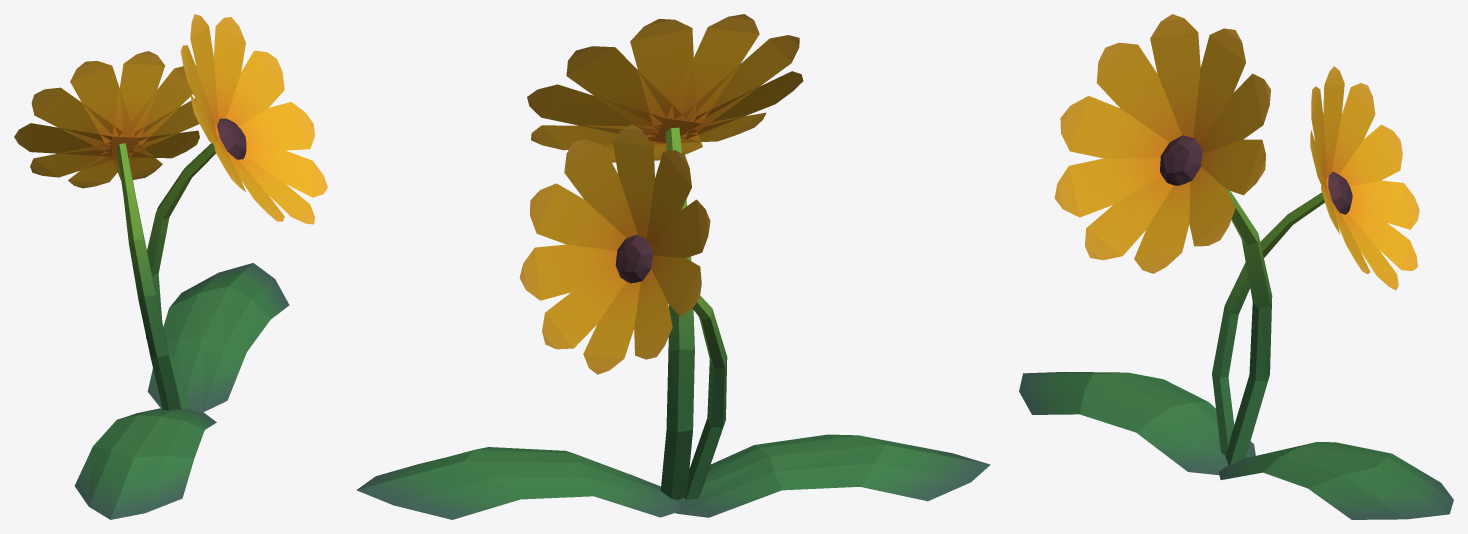
File: amarilla-2.glb
3 renders of one model, left to right at view 1: azimuth 30°, elevation 25°; view 2: azimuth 150°, elevation 25°; view 3: azimuth 270°, elevation 25°, orthographic. The views are drawn at different scales.
Parts seen in each view (by area): view 1: Flower.016; view 2: Flower.016; view 3: Flower.016.
Part boxes in pixels (x1,y1,x2,y2): Flower.016: [14, 14, 327, 519]; Flower.016: [356, 14, 990, 519]; Flower.016: [1019, 14, 1453, 519].
Size of the model in its own units: 2.39 by 2.68 by 2.37.
1 material, 1 textured.
